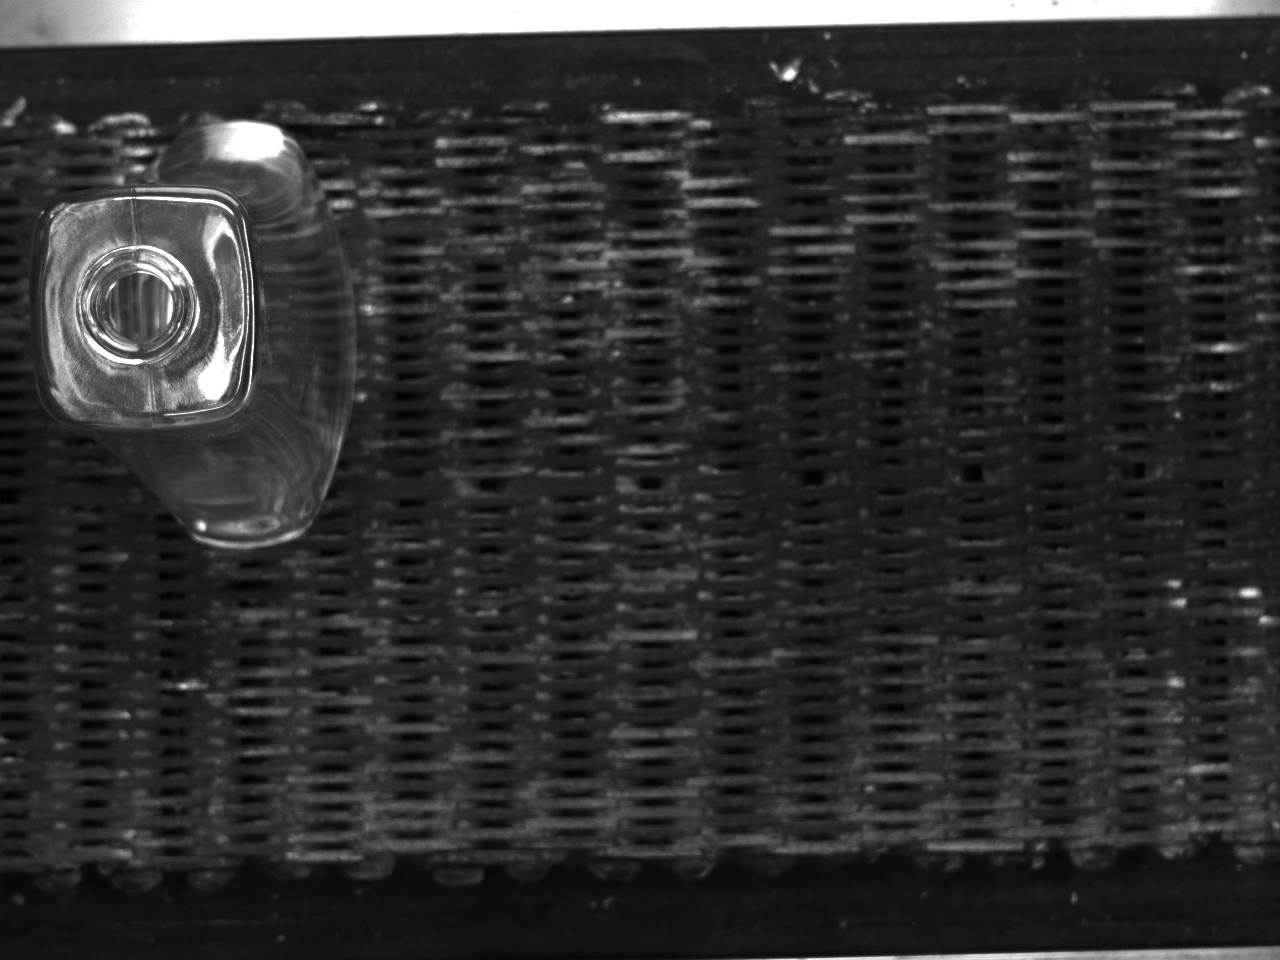bottleneck: (77, 244, 196, 360)
